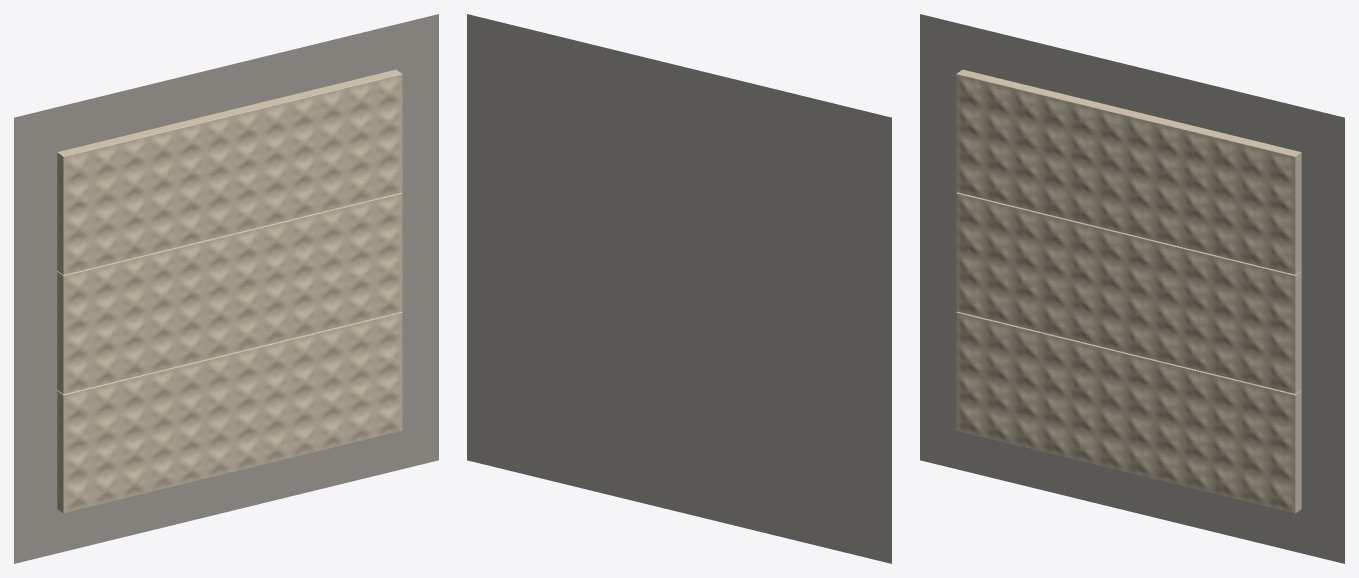
The model's file is terilgan.glb.
3 renders of one model, left to right at view 1: azimuth 30°, elevation 25°; view 2: azimuth 150°, elevation 25°; view 3: azimuth 330°, elevation 25°, orthographic.
Visible parts, largest first — view 1: Plane, t2_0, t0_0, t1_0; view 2: Plane; view 3: Plane, t2_0, t0_0, t1_0.
Part boxes in pixels (left/top/right/bottom): Plane: left=14, top=14, right=438, bottom=563; t2_0: left=57, top=69, right=402, bottom=274; t0_0: left=57, top=311, right=402, bottom=513; t1_0: left=57, top=192, right=402, bottom=393; Plane: left=467, top=14, right=891, bottom=563; Plane: left=920, top=14, right=1344, bottom=563; t2_0: left=956, top=69, right=1301, bottom=274; t0_0: left=956, top=311, right=1301, bottom=513; t1_0: left=956, top=192, right=1301, bottom=393.
Bounding box in the file's own units: 1.5 × 1.51 × 0.0467.
